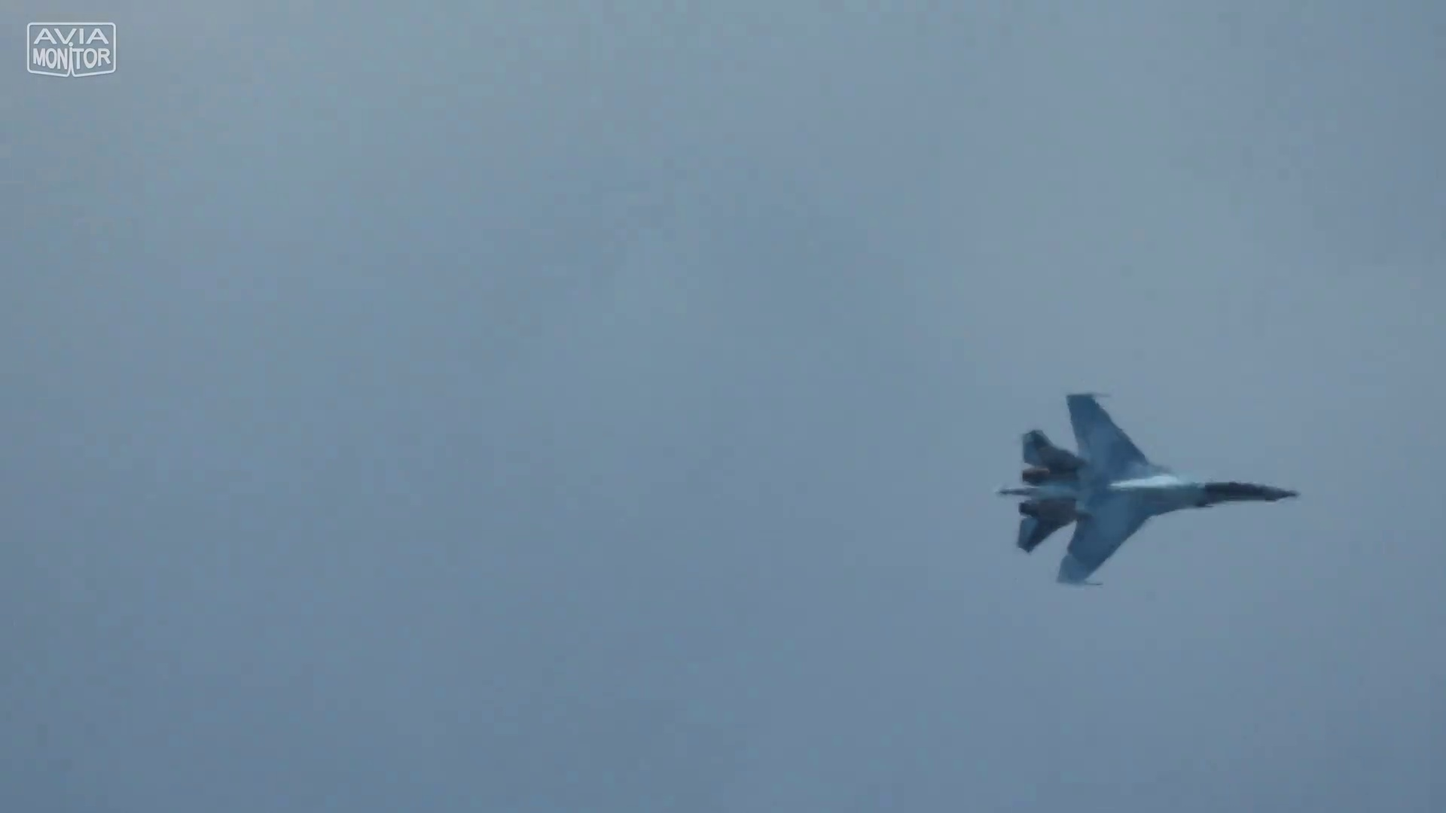Su35: (987, 379, 1305, 593)
